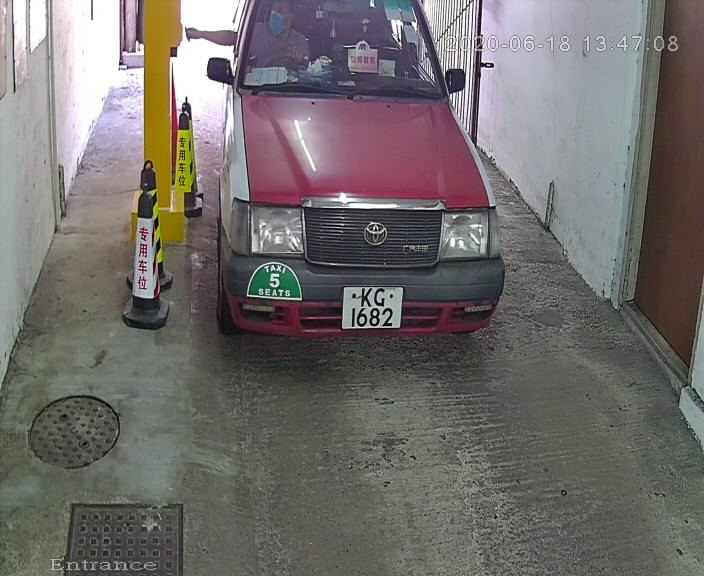taxi: (194, 2, 513, 367)
taxi_mark: (244, 257, 310, 309)
